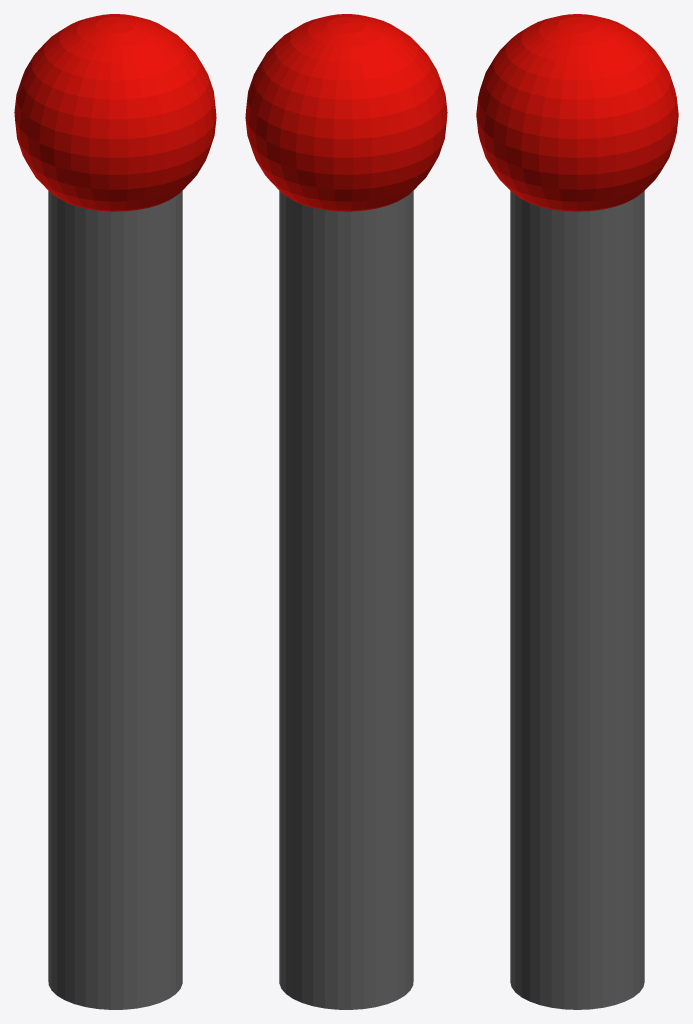
The model's file is spak1Lever.fbx.
3 views of the same model, side by side, from view 1: azimuth 30°, elevation 25°; view 2: azimuth 150°, elevation 25°; view 3: azimuth 270°, elevation 25° (orthographic).
Visible parts, largest first — view 1: Cylinder.001, Sphere; view 2: Cylinder.001, Sphere; view 3: Cylinder.001, Sphere.
Part boxes in pixels (box(x1,y1,x2,y2)): Cylinder.001: box(48, 190, 182, 1009); Sphere: box(14, 14, 216, 211); Cylinder.001: box(279, 190, 413, 1009); Sphere: box(245, 14, 447, 211); Cylinder.001: box(510, 191, 644, 1009); Sphere: box(476, 14, 678, 211).
Bounding box in the file's own units: 105 × 547 × 105.
